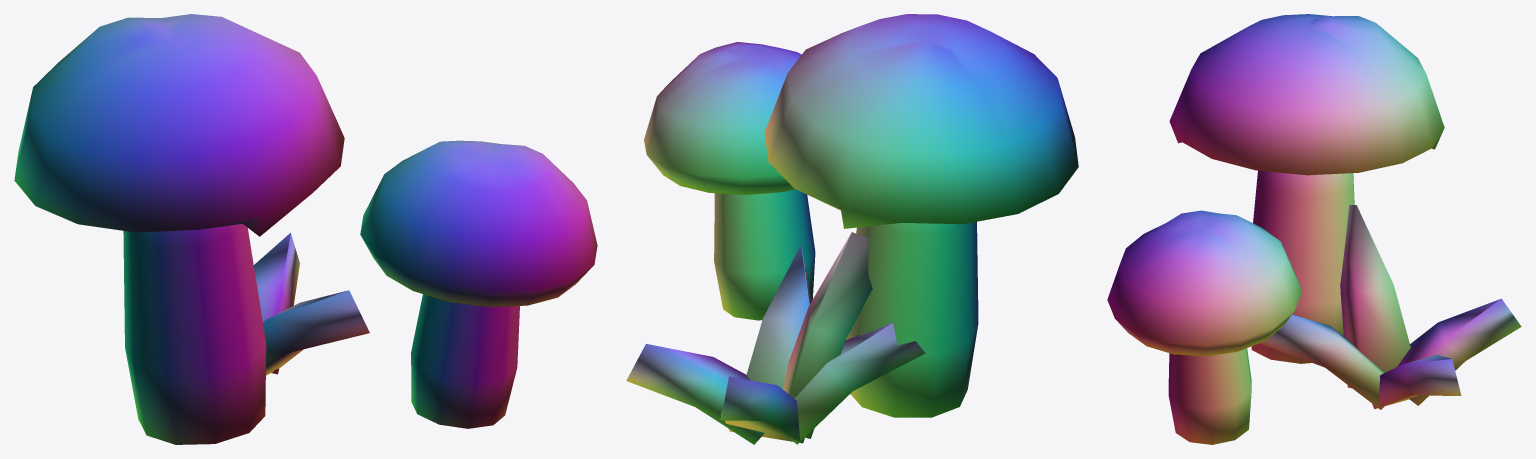
File: SM_Foliage_Plains_RedMushrooms_A.fbx
3 views of the same model, side by side, from view 1: azimuth 30°, elevation 25°; view 2: azimuth 150°, elevation 25°; view 3: azimuth 270°, elevation 25° (orthographic). The views are drawn at different scales.
Visible parts, largest first — view 1: SM_Foliage_Plains_RedMushrooms_A; view 2: SM_Foliage_Plains_RedMushrooms_A; view 3: SM_Foliage_Plains_RedMushrooms_A.
Boxes of the visible parts, <box> form: SM_Foliage_Plains_RedMushrooms_A: <box>14,14,597,444</box>; SM_Foliage_Plains_RedMushrooms_A: <box>626,14,1078,444</box>; SM_Foliage_Plains_RedMushrooms_A: <box>1107,14,1521,444</box>.
Bounding box in the file's own units: 0.4052 × 0.3228 × 0.3703.
